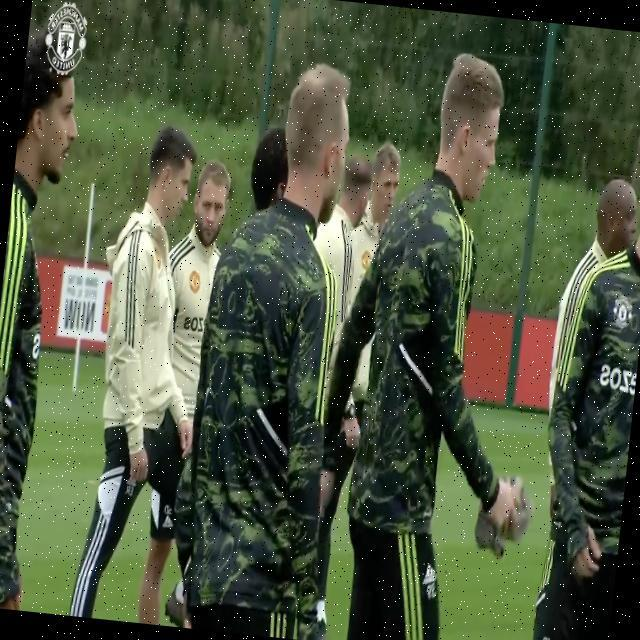Adidas: (421, 561, 438, 586), (160, 513, 174, 531)
